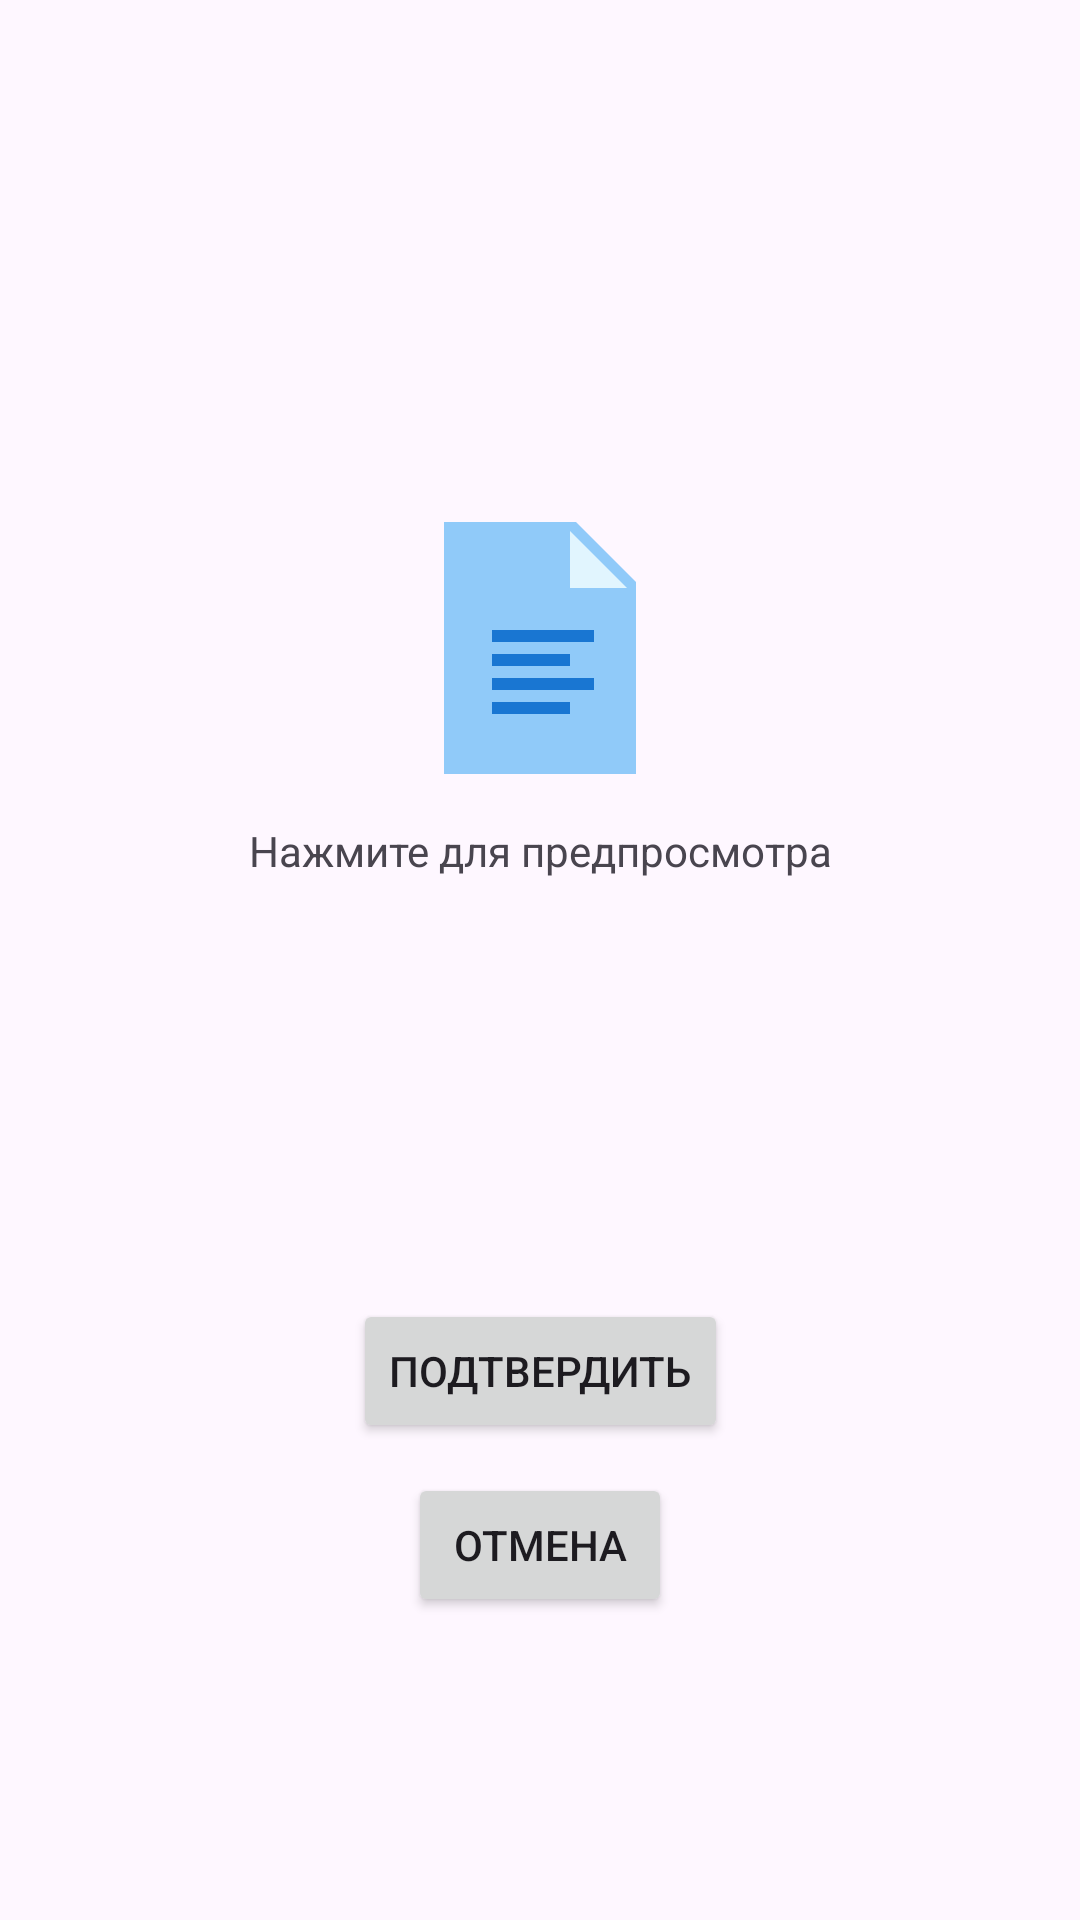

Locate icon controls on the screen. Image size 1080x1920, boxes as (x1, y1, x2, y2).
document: (444, 522, 636, 774)
